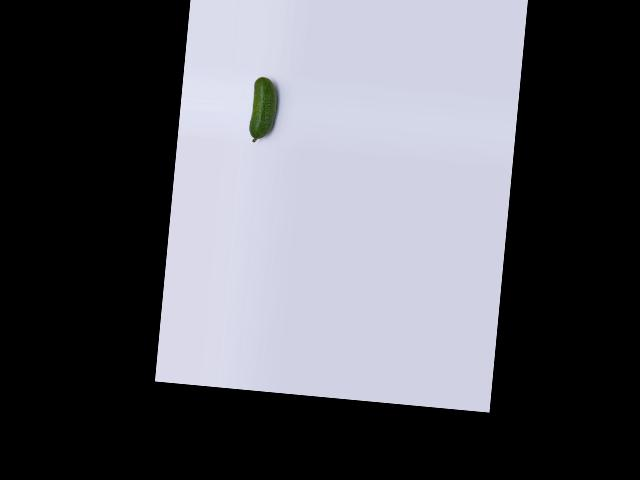cucumber: (248, 75, 279, 143)
